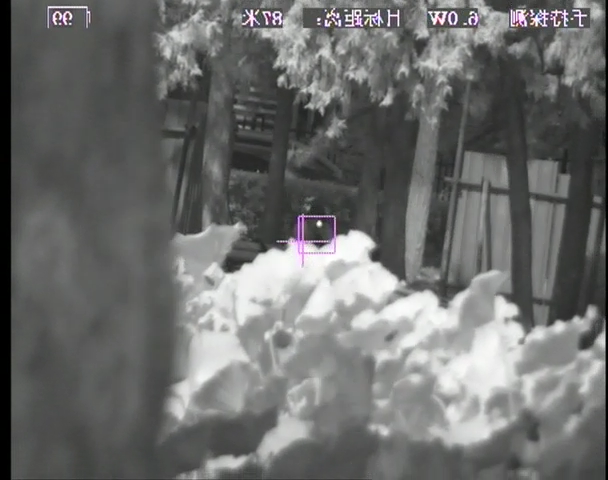my: (314, 218, 324, 229)
